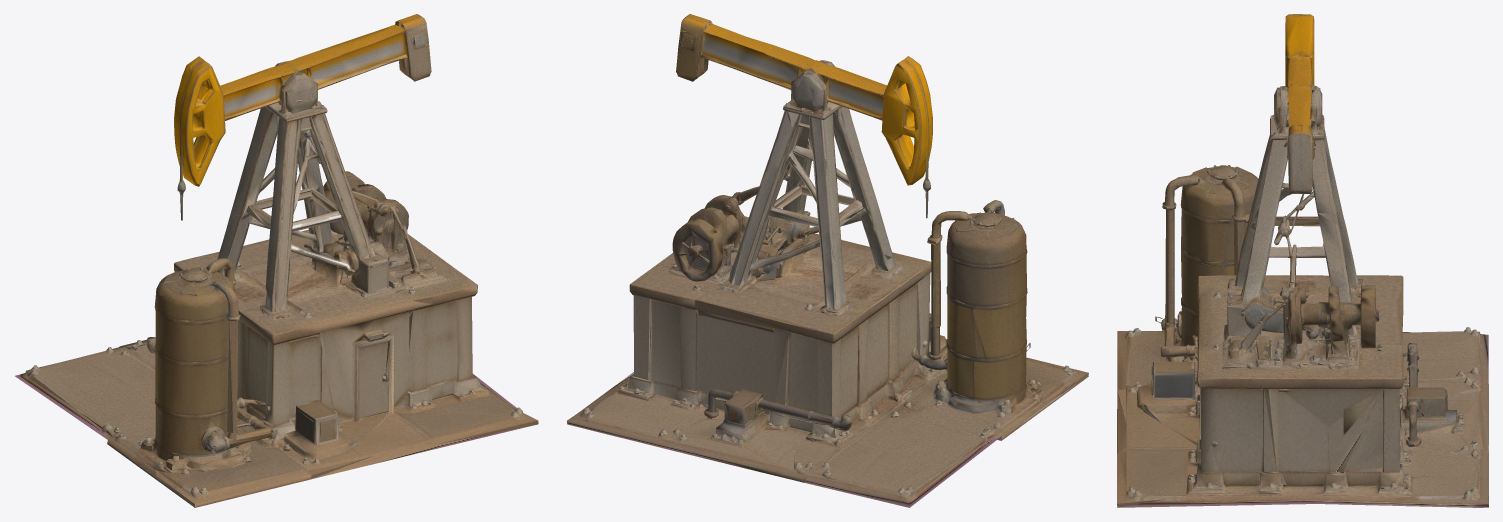
Rendered from oil-derrick.glb.
3 renders of one model, left to right at view 1: azimuth 30°, elevation 25°; view 2: azimuth 150°, elevation 25°; view 3: azimuth 270°, elevation 25°, orthographic. The views are drawn at different scales.
Visible parts, largest first — view 1: mesh_node; view 2: mesh_node; view 3: mesh_node.
Boxes of the visible parts, <box> form: mesh_node: <box>15,14,538,507</box>; mesh_node: <box>567,14,1088,507</box>; mesh_node: <box>1117,14,1488,507</box>.
Bounding box in the file's own units: 2 × 2 × 1.82.
1 material, 1 textured.
